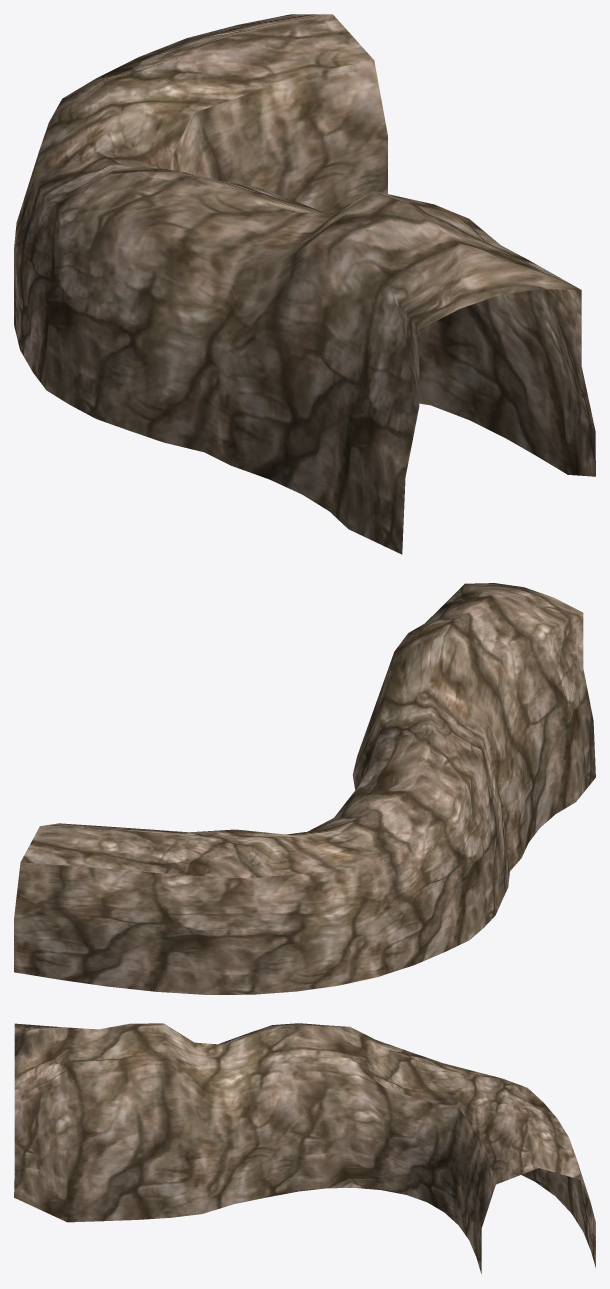
The model's file is EKH_BARRELROOM_PS_JA1_EXIT_CAVE02928.fbx.
3 renders of one model, top to bottom at view 1: azimuth 30°, elevation 25°; view 2: azimuth 150°, elevation 25°; view 3: azimuth 270°, elevation 25°, orthographic. The views are drawn at different scales.
Parts seen in each view (by area): view 1: EKH_BARRELROOM_PS_JA1_EXIT_CAVE02928; view 2: EKH_BARRELROOM_PS_JA1_EXIT_CAVE02928; view 3: EKH_BARRELROOM_PS_JA1_EXIT_CAVE02928.
Part boxes in pixels (x1,y1,x2,y2): EKH_BARRELROOM_PS_JA1_EXIT_CAVE02928: (14, 14, 595, 554); EKH_BARRELROOM_PS_JA1_EXIT_CAVE02928: (14, 583, 595, 994); EKH_BARRELROOM_PS_JA1_EXIT_CAVE02928: (14, 1023, 595, 1273).
Bounding box in the file's own units: 104397 × 60672 × 186403.
1 material, 1 textured.
